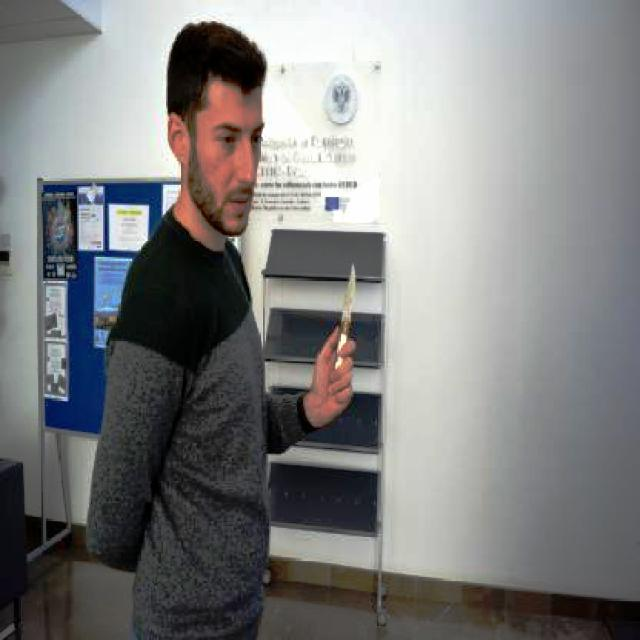Knife: (330, 261, 364, 357)
